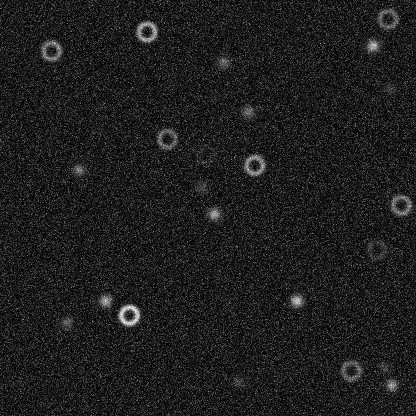Ring: (339, 358, 363, 382), (375, 6, 399, 30), (134, 19, 158, 43), (388, 193, 412, 217), (39, 38, 63, 62), (154, 126, 178, 150), (116, 303, 140, 327), (193, 142, 217, 166), (242, 153, 266, 177), (364, 237, 388, 261)
Spot: (70, 161, 86, 177), (383, 377, 399, 393), (97, 292, 113, 308), (376, 359, 392, 375), (364, 37, 380, 53), (215, 54, 231, 70), (381, 80, 397, 96), (192, 179, 208, 195), (206, 205, 222, 221), (288, 292, 304, 308), (230, 374, 246, 390), (240, 103, 256, 119), (58, 314, 74, 330)
